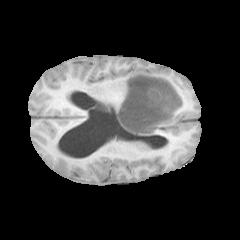glioma: (106, 69, 184, 135)
